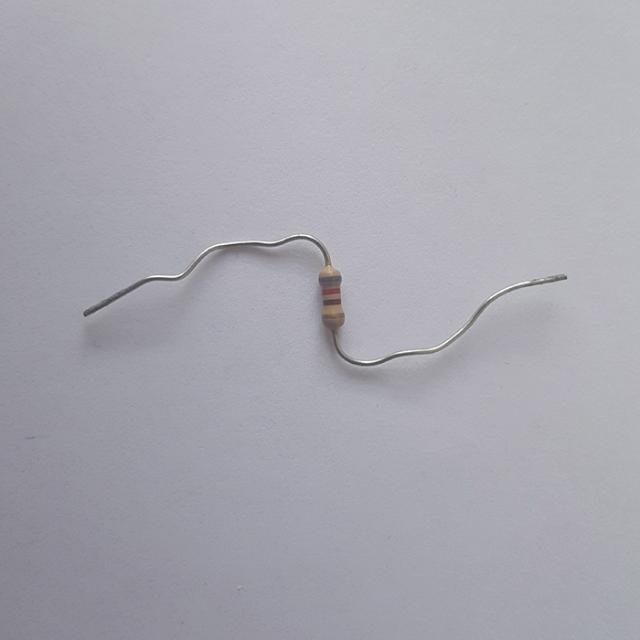brown: (324, 299, 341, 304)
gold: (323, 312, 342, 316)
grey: (318, 275, 340, 283)
red: (324, 289, 339, 293)
resistor: (310, 264, 358, 338)
